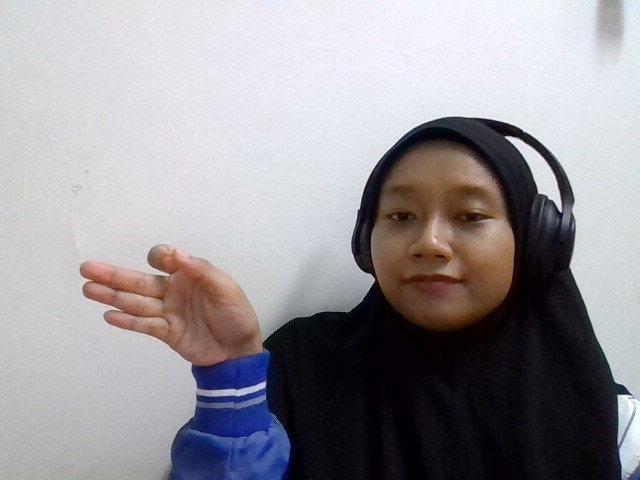Tudung: (80, 243, 263, 367)
